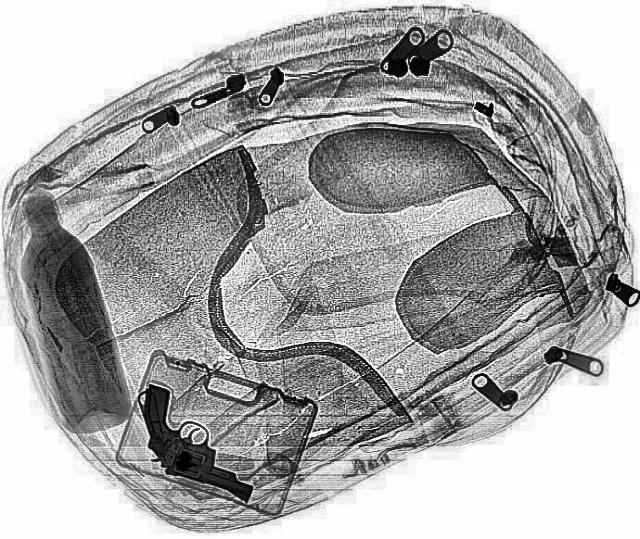Gun: (94, 377, 276, 523)
